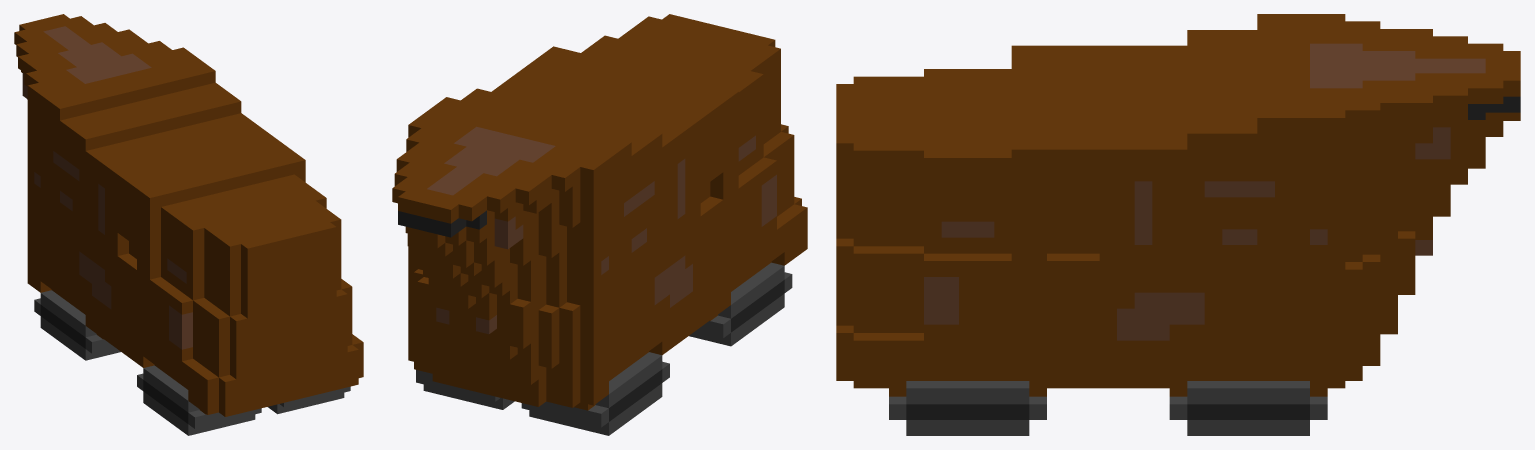
File: sandcrawler.vox.obj
3 renders of one model, left to right at view 1: azimuth 30°, elevation 25°; view 2: azimuth 150°, elevation 25°; view 3: azimuth 270°, elevation 25°, orthographic. The views are drawn at different scales.
Size of the model in its own units: 1.4 by 2 by 3.9.
Materials: 1 (1 with a texture image).
